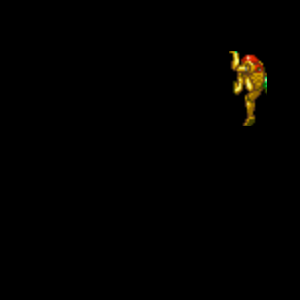Collectible: (229, 51, 267, 126)
